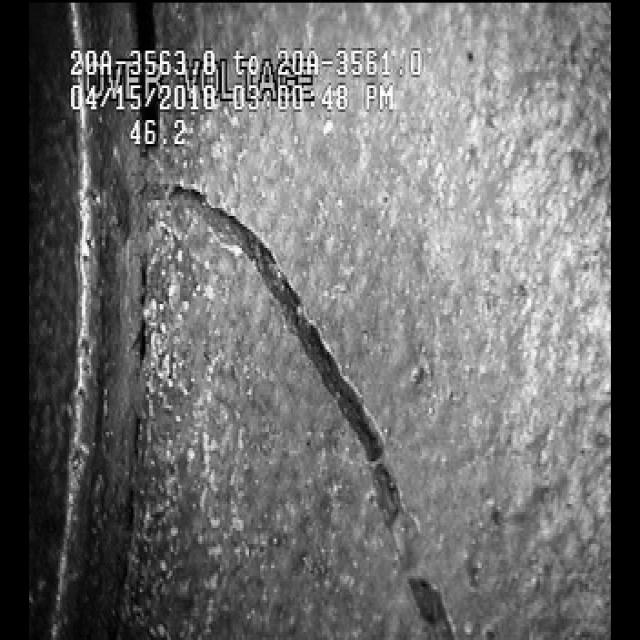Fracture: (119, 175, 442, 610)
